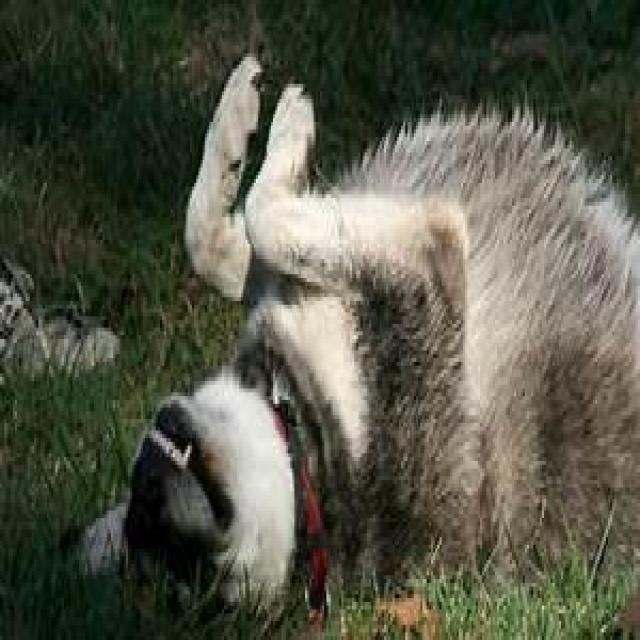animal: (53, 45, 639, 640)
